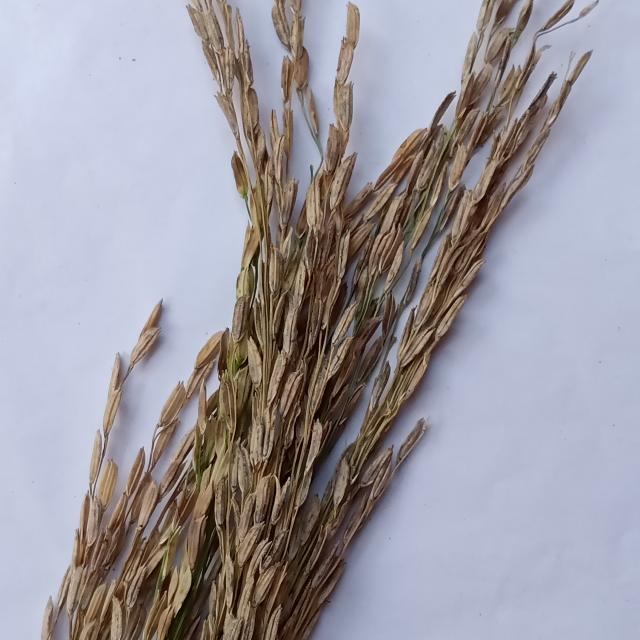Neck_Blast: (219, 0, 603, 640), (30, 0, 355, 640)
